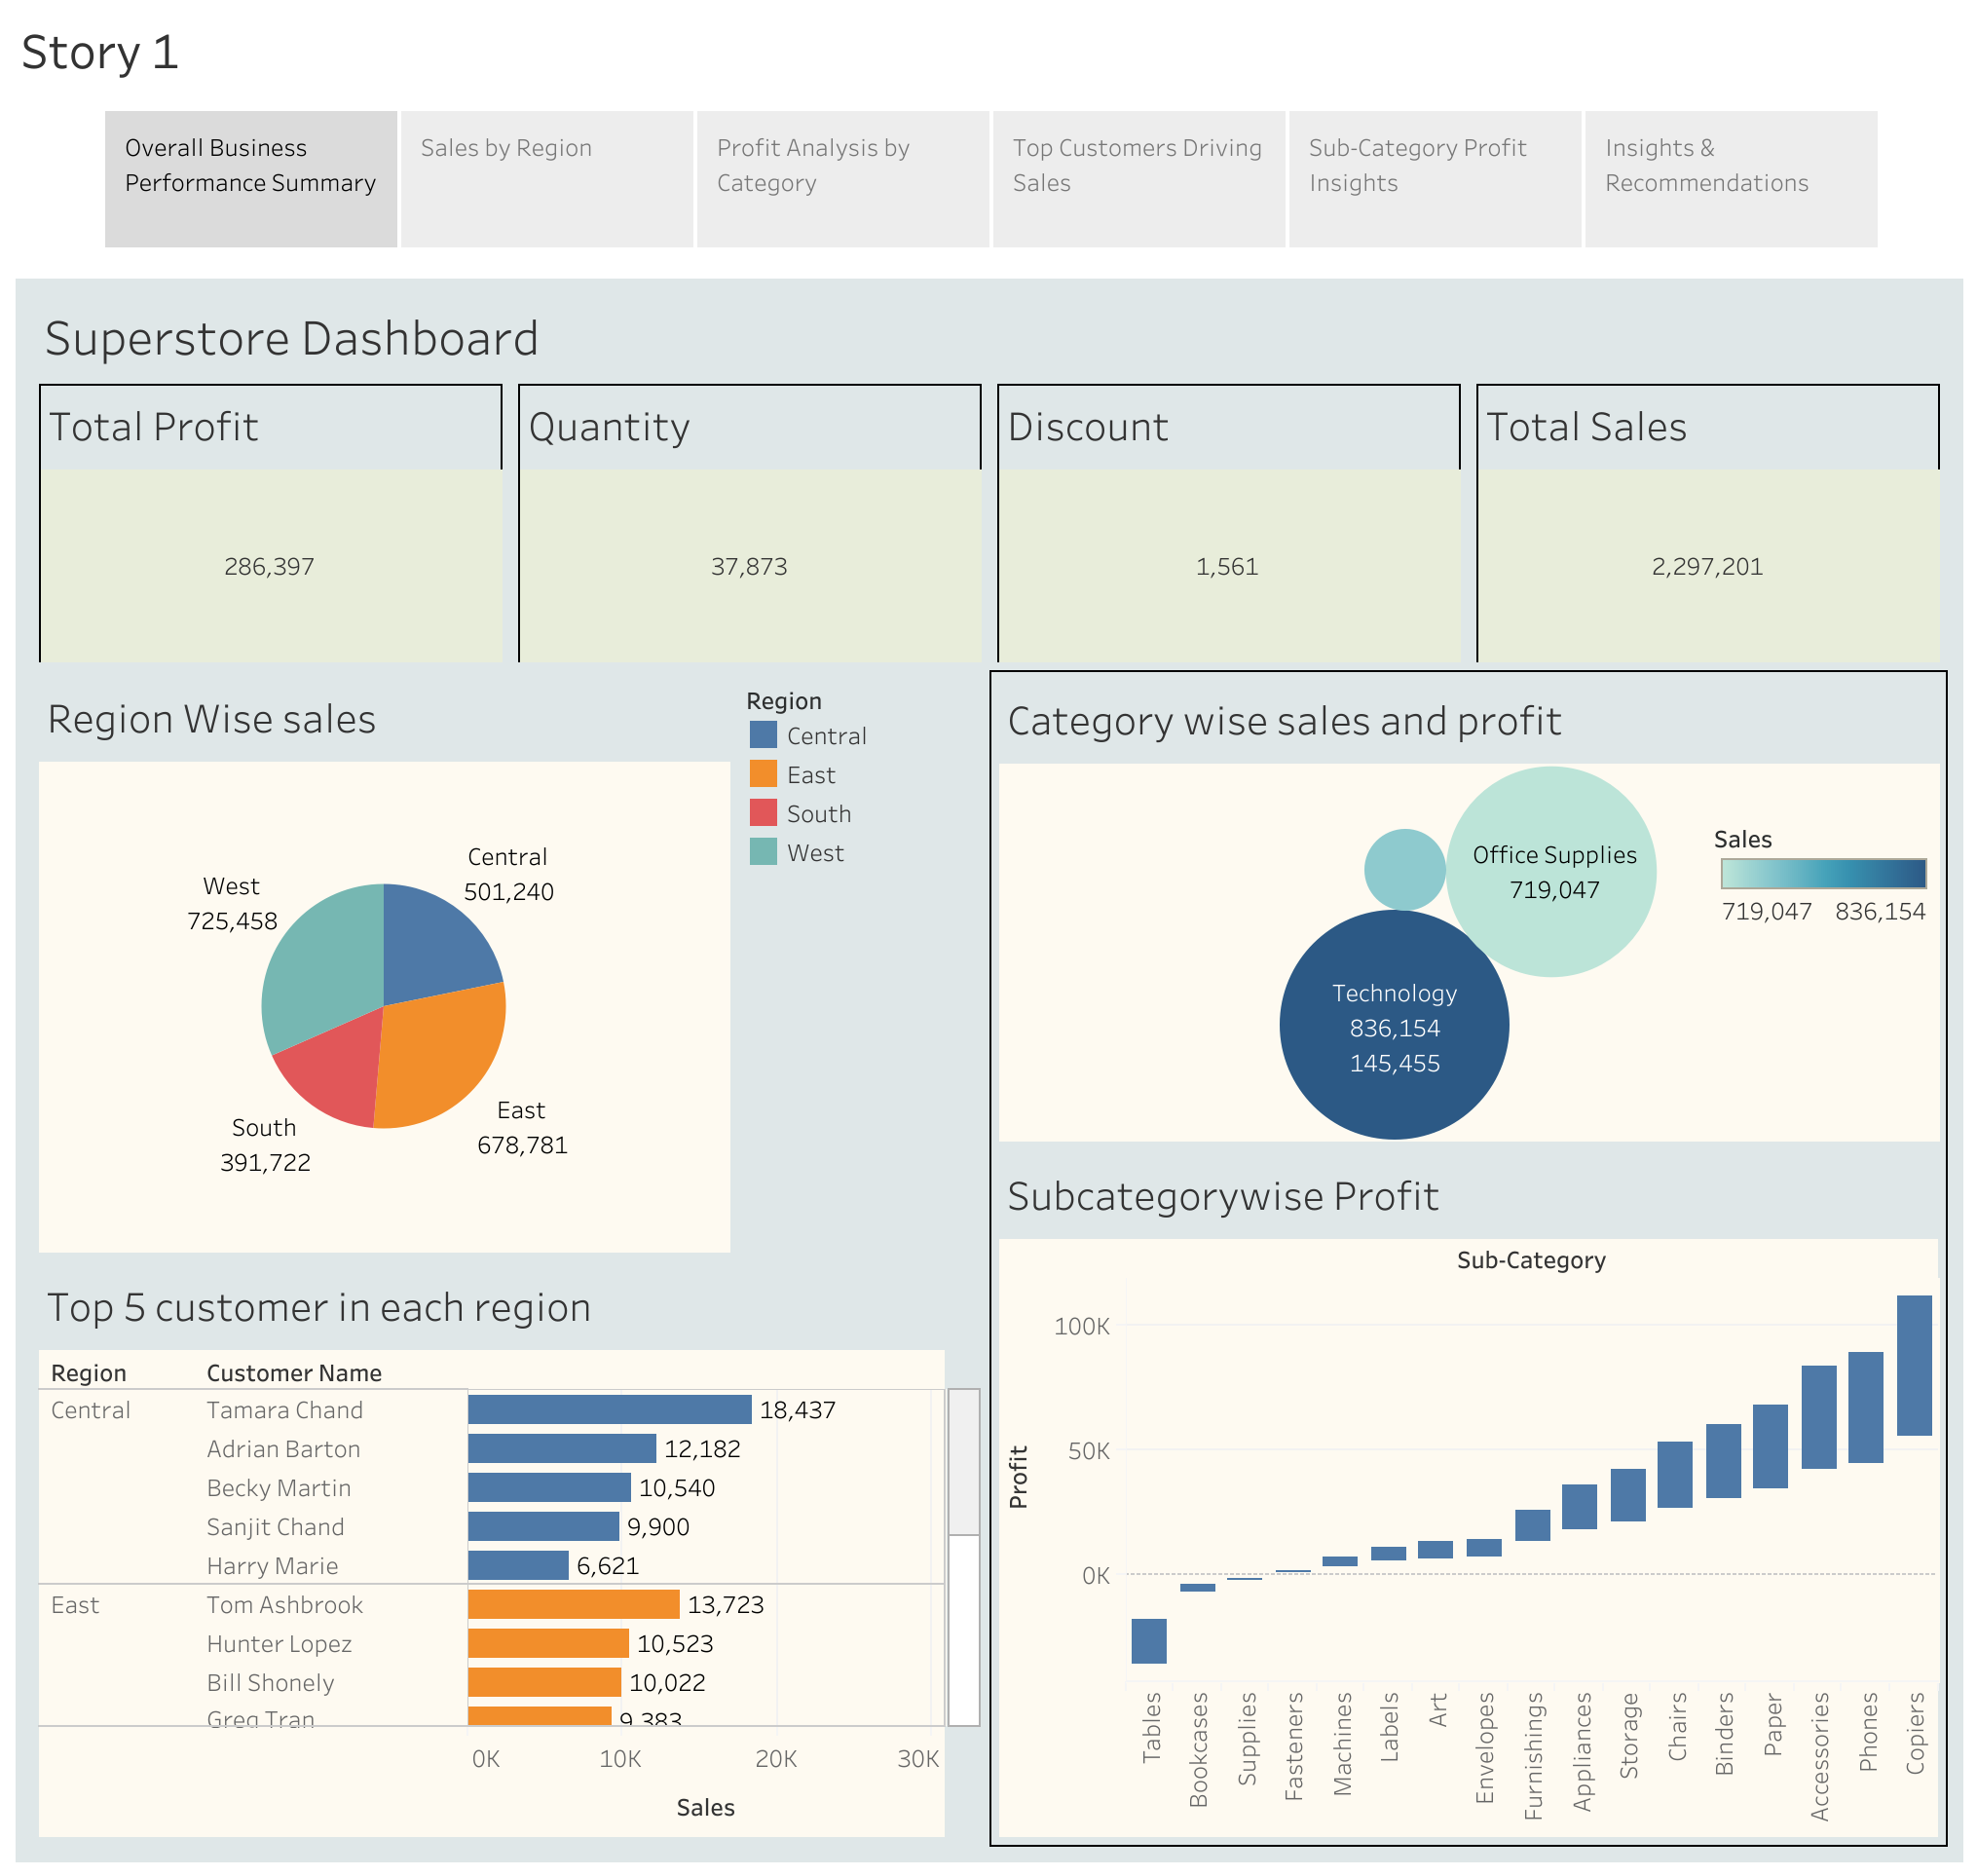

This screenshot's page, from the dashboard's own definition file:
{"tool":"tableau","page":{"name":"Dashboard 1","canvas":[1000,1000],"units":"permille","ordinal":0},"visuals":[{"type":"title","box":[6.5,12.2,987,64.1]},{"type":"worksheet","title":"Sheet 1","mark":"Automatic","box":[6.5,76.3,246.7,172.5]},{"type":"worksheet","title":"Sheet 3","mark":"Automatic","box":[253.2,76.3,246.8,172.5]},{"type":"worksheet","title":"Sheet 4","mark":"Automatic","box":[500,76.3,246.7,172.5]},{"type":"worksheet","title":"Sheet 2","mark":"Automatic","box":[746.7,76.3,246.8,172.5]},{"type":"worksheet","title":"Sheet 6","mark":"Pie","box":[6.5,248.8,363.3,369.5]},{"type":"legend","title":"Sheet 6","param":"[federated.0czfvju0qzexw913su7j411m6rim].[none:Region:nk]","box":[369.8,248.8,130.2,369.5]},{"type":"worksheet","title":"Sheet 8","mark":"Circle","box":[500.8,250.3,491.9,372.5]},{"type":"legend","title":"Sheet 8","param":"[federated.0czfvju0qzexw913su7j411m6rim].[sum:Sales:qk]","box":[872.2,337.4,113.9,116]},{"type":"worksheet","title":"Sheet 7","mark":"Automatic","rows":["Region","Customer Name"],"cols":["Sales"],"box":[6.5,618.3,493.5,369.5]},{"type":"worksheet","title":"Sheet 5","mark":"GanttBar","rows":["Profit"],"cols":["Sub-Category"],"box":[500.8,622.9,491.9,363.4]}]}

Visuals, with their boxes on the dashboard's canvas, which has no fixed pixel size, in thousandths of its width and height (x1, y1, x2, y2). These are canvas units, not pixel positions in the 1977x1876 screenshot, which may show the page scaled, cropped or inside an application window:
title: box=[6, 12, 994, 76]
"Sheet 1" worksheet: box=[6, 76, 253, 249]
"Sheet 3" worksheet: box=[253, 76, 500, 249]
"Sheet 4" worksheet: box=[500, 76, 747, 249]
"Sheet 2" worksheet: box=[747, 76, 994, 249]
"Sheet 6" worksheet (Pie marks): box=[6, 249, 370, 618]
"Sheet 6" legend: box=[370, 249, 500, 618]
"Sheet 8" worksheet (Circle marks): box=[501, 250, 993, 623]
"Sheet 8" legend: box=[872, 337, 986, 453]
"Sheet 7" worksheet: box=[6, 618, 500, 988]
"Sheet 5" worksheet (GanttBar marks): box=[501, 623, 993, 986]
